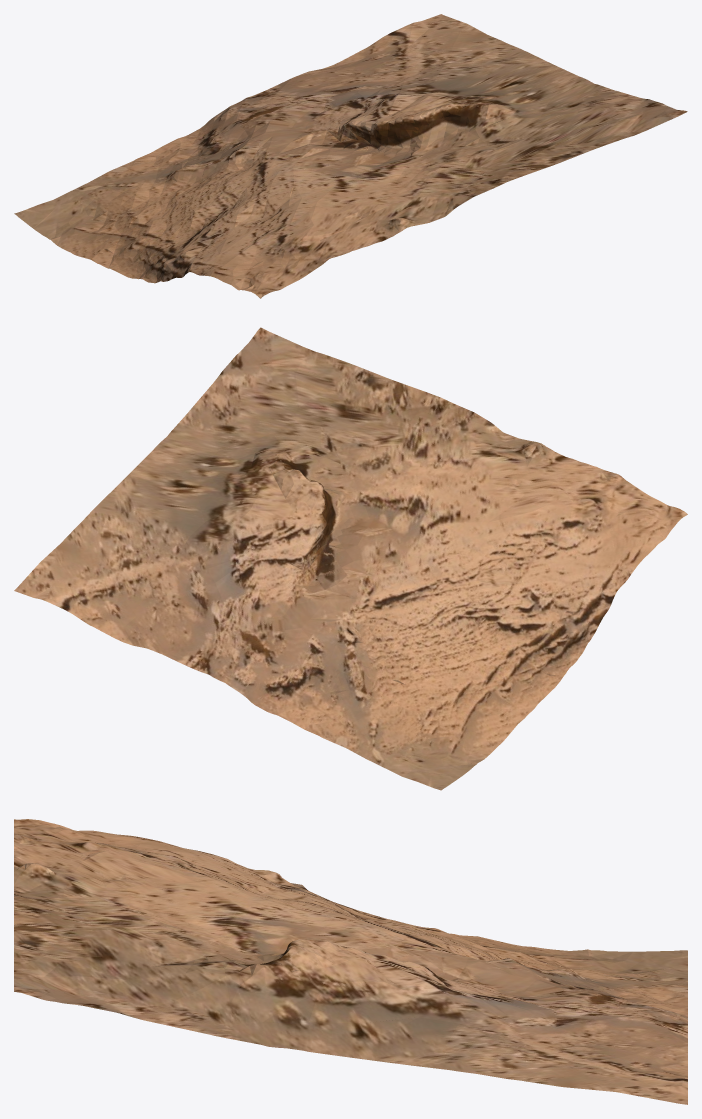
3 views of the same model, one above another, from view 1: azimuth 30°, elevation 25°; view 2: azimuth 150°, elevation 25°; view 3: azimuth 270°, elevation 25° (orthographic). The views are drawn at different scales.
Bounding box in the file's own units: 2.09 × 0.8374 × 2.09.
2 materials, 2 textured.
